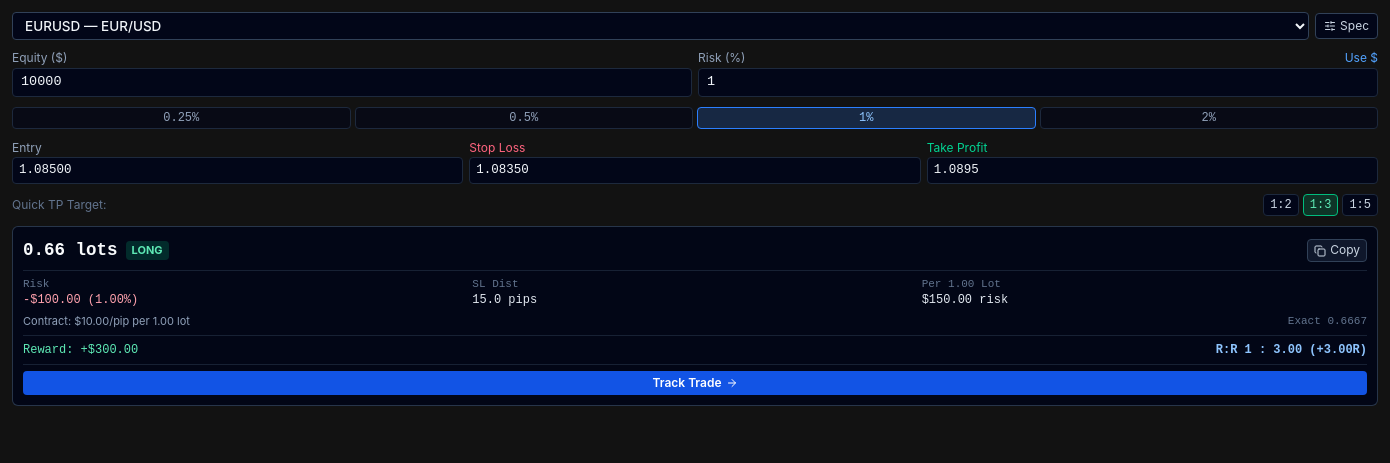
Test case: Milestone 2 Widgets › calculates lot sizes live in RiskCalculatorWidget across instruments and R-targets
The width and height of the screenshot is (1390, 463).
Earlier steps of the test are not shown.
Expected: the text "R:R 1 : 3.00 (+3.00R)" is shown, x1=1216 y1=342 x2=1367 y2=358
// Clearing Equity ($) must stay empty instead of snapping back to previous number
Clear the number field labelled "Equity ($)" at (352,83), box x1=12 y1=68 x2=692 y2=97
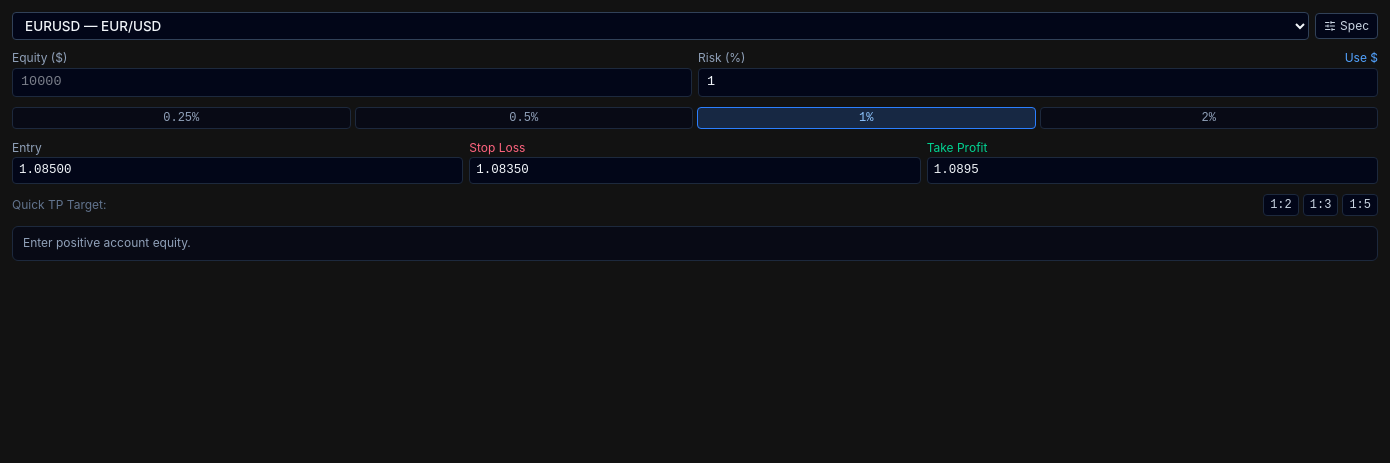
Expected: the text "Enter positive account equity." is shown, x1=12 y1=226 x2=1378 y2=261
Type "20000" into the number field labelled "Equity ($)" at (352,83), box x1=12 y1=68 x2=692 y2=97
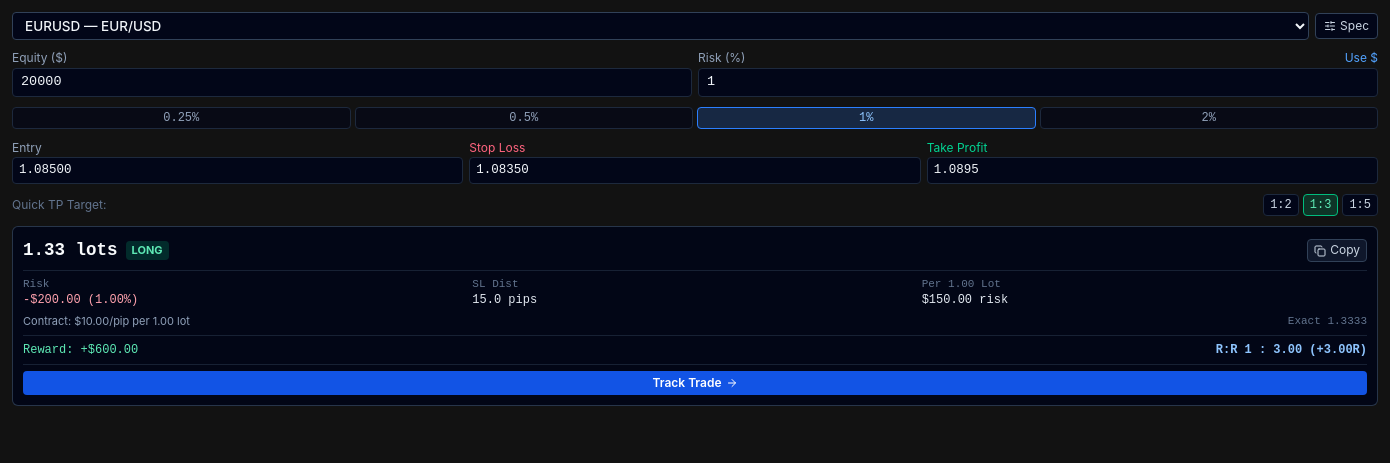
// Quick 1:2 R/R target must preserve exact 1:2 ratio even if fine decimals are entered on XAUUSD
Select "XAUUSD — XAU/USD (Gold)" in the dropdown named "Instrument" at (661,26), box x1=12 y1=12 x2=1309 y2=40
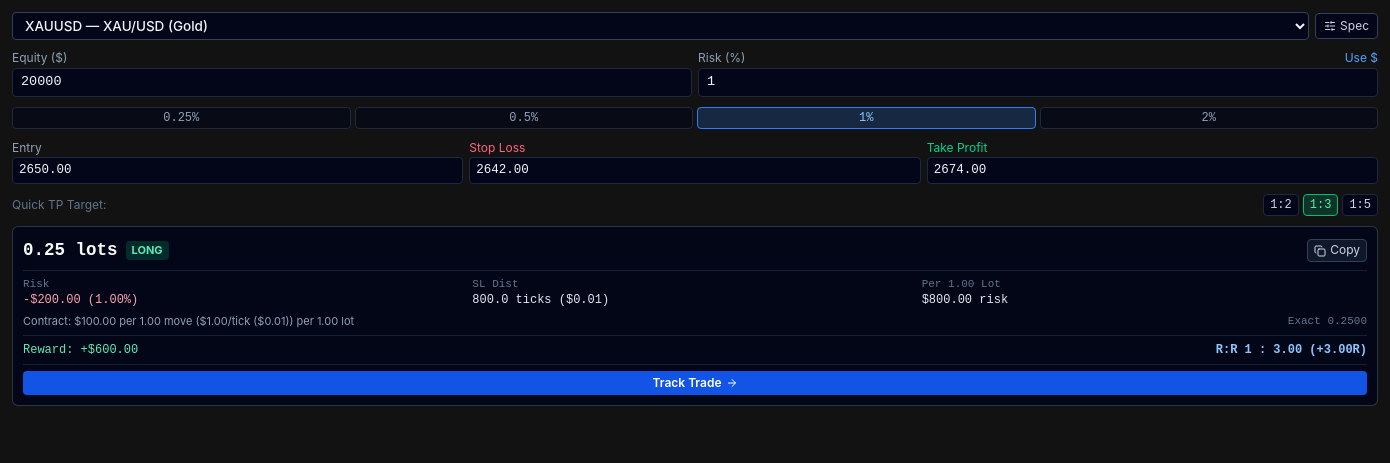
Replace the text in the number field labelled "Entry" with "1.08500" at (238,171), box x1=12 y1=157 x2=463 y2=184
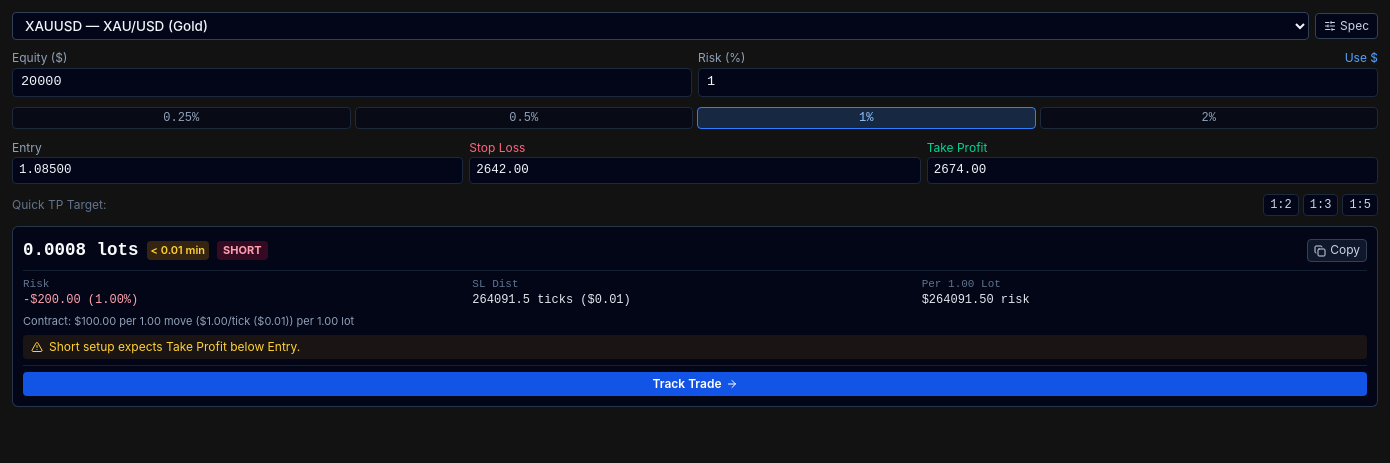
Replace the text in the number field labelled "Stop Loss" with "1.08350" at (695,171), box x1=469 y1=157 x2=921 y2=184
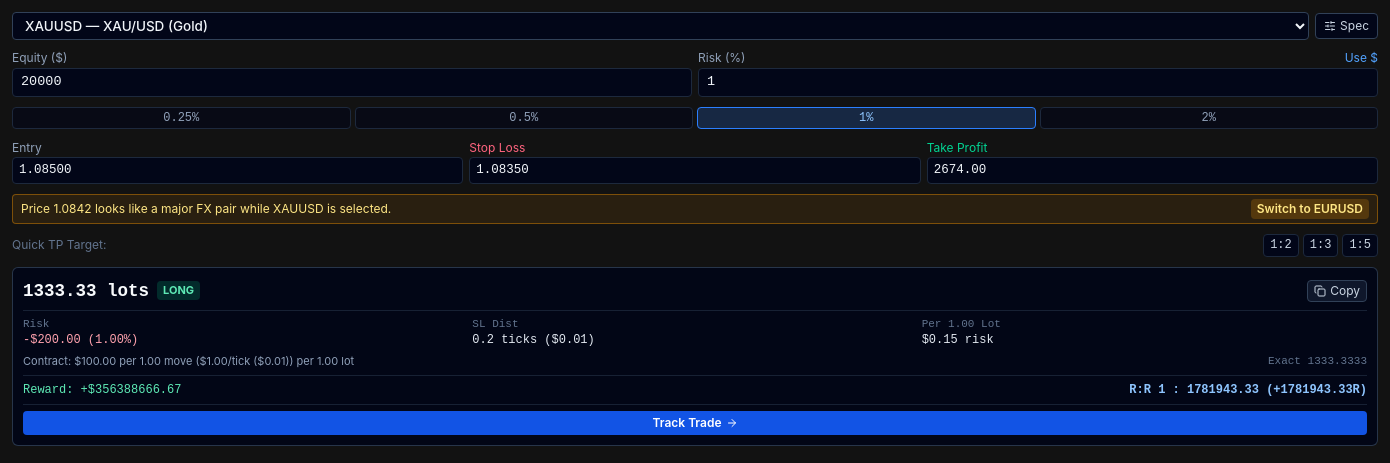
Click the button "1:2" at (1281,246), box x1=1263 y1=234 x2=1299 y2=257
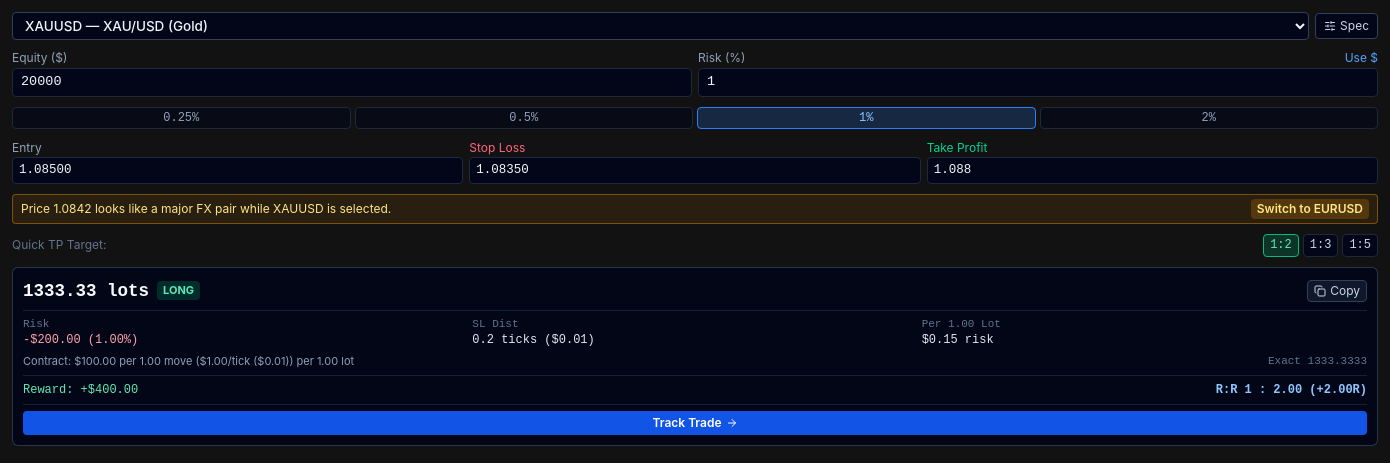
Expected: the text "R:R 1 : 2.00 (+2.00R)" is shown, x1=1216 y1=382 x2=1367 y2=398
